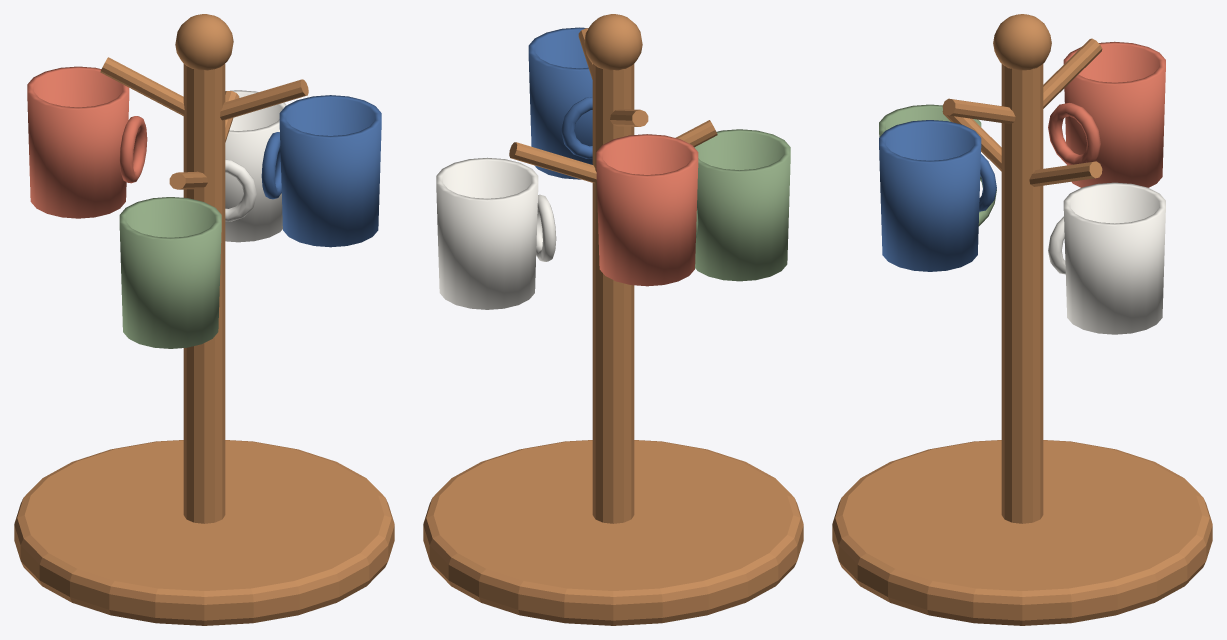
Rendered from hh_cat_mug_tree.glb.
3 views of the same model, side by side, from view 1: azimuth 30°, elevation 25°; view 2: azimuth 150°, elevation 25°; view 3: azimuth 270°, elevation 25° (orthographic).
Visible parts, largest first — view 1: mug_tree_base, mug.002, mug.003, mug_tree_post, mug.001, mug, post_knob, peg.001, peg.003, mug_handle.001, mug_handle.003, mug_handle (+1 smaller); view 2: mug_tree_base, mug.001, mug, mug_tree_post, mug.002, mug.003, post_knob, peg, mug_handle, mug_handle.003, peg.001, peg.002; view 3: mug_tree_base, mug_tree_post, mug, mug.003, mug.001, post_knob, mug_handle.001, peg.001, peg, peg.003, mug.002, peg.002 (+2 smaller).
Part boxes in pixels (bbox=[...]): mug_tree_base: bbox=[14, 440, 394, 625]; mug.002: bbox=[119, 197, 221, 348]; mug.003: bbox=[279, 95, 381, 247]; mug_tree_post: bbox=[183, 63, 225, 523]; mug.001: bbox=[27, 66, 129, 218]; mug: bbox=[225, 90, 286, 242]; post_knob: bbox=[175, 14, 233, 70]; peg.001: bbox=[100, 57, 184, 115]; peg.003: bbox=[220, 79, 308, 120]; mug_handle.001: bbox=[119, 116, 147, 183]; mug_handle.003: bbox=[261, 132, 281, 199]; mug_handle: bbox=[225, 159, 256, 221]; mug_tree_base: bbox=[423, 440, 803, 625]; mug.001: bbox=[596, 134, 698, 286]; mug: bbox=[436, 157, 538, 309]; mug_tree_post: bbox=[592, 63, 634, 523]; mug.002: bbox=[694, 129, 790, 281]; mug.003: bbox=[528, 27, 592, 179]; post_knob: bbox=[584, 14, 642, 70]; peg: bbox=[509, 142, 596, 182]; mug_handle: bbox=[536, 194, 556, 261]; mug_handle.003: bbox=[561, 97, 592, 158]; peg.001: bbox=[610, 109, 648, 126]; peg.002: bbox=[675, 120, 717, 147]; mug_tree_base: bbox=[832, 440, 1212, 625]; mug_tree_post: bbox=[1001, 64, 1043, 523]; mug: bbox=[1063, 182, 1165, 334]; mug.003: bbox=[879, 120, 981, 271]; mug.001: bbox=[1063, 41, 1165, 187]; post_knob: bbox=[993, 14, 1051, 70]; mug_handle.001: bbox=[1048, 103, 1100, 164]; peg.001: bbox=[1043, 38, 1102, 108]; peg: bbox=[1029, 161, 1102, 186]; peg.003: bbox=[942, 98, 1015, 124]; mug.002: bbox=[879, 104, 981, 136]; peg.002: bbox=[942, 111, 1001, 171].
Size of the model in its own units: 0.22 by 0.34 by 0.22.
